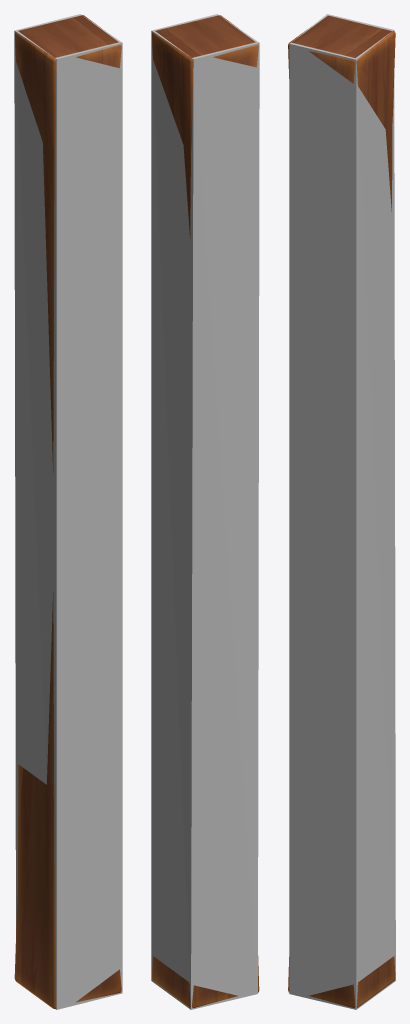
Rendered from SM_PropWoodBeams01_1.fbx.
3 views of the same model, side by side, from view 1: azimuth 30°, elevation 25°; view 2: azimuth 210°, elevation 25°; view 3: azimuth 330°, elevation 25° (orthographic).
Parts seen in each view (by area): view 1: SM_PropWoodBeams01_1_ConvexHulls, SM_PropWoodBeams01_1; view 2: SM_PropWoodBeams01_1_ConvexHulls, SM_PropWoodBeams01_1; view 3: SM_PropWoodBeams01_1_ConvexHulls, SM_PropWoodBeams01_1.
Part boxes in pixels (x1,y1,x2,y2): SM_PropWoodBeams01_1_ConvexHulls: (14, 14, 122, 1009); SM_PropWoodBeams01_1: (14, 15, 121, 1008); SM_PropWoodBeams01_1_ConvexHulls: (151, 14, 259, 1009); SM_PropWoodBeams01_1: (152, 15, 259, 1008); SM_PropWoodBeams01_1_ConvexHulls: (289, 14, 395, 1009); SM_PropWoodBeams01_1: (288, 15, 395, 1007).
Bounding box in the file's own units: 26.83 × 26.99 × 350.
2 materials, 1 textured.
